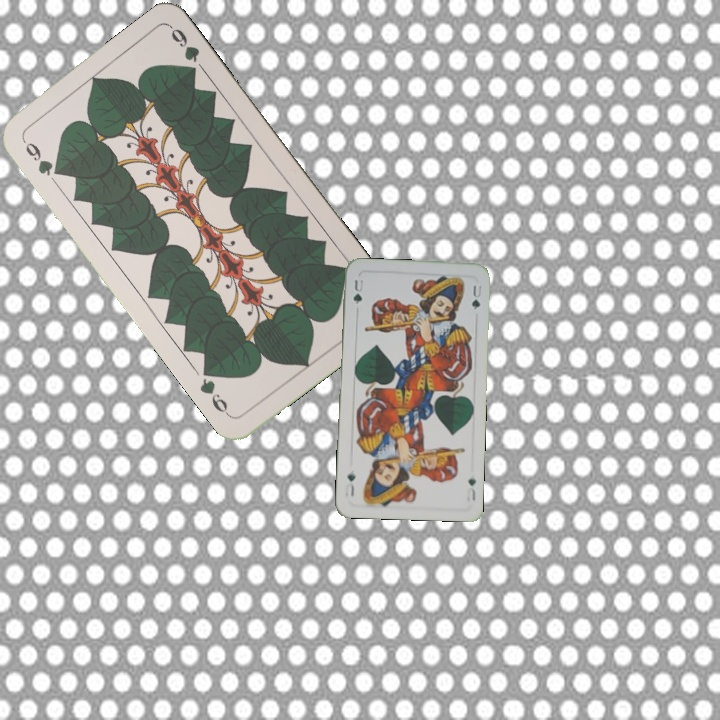G9: (18, 136, 65, 179)
GU: (349, 275, 365, 307), (464, 474, 479, 504)
